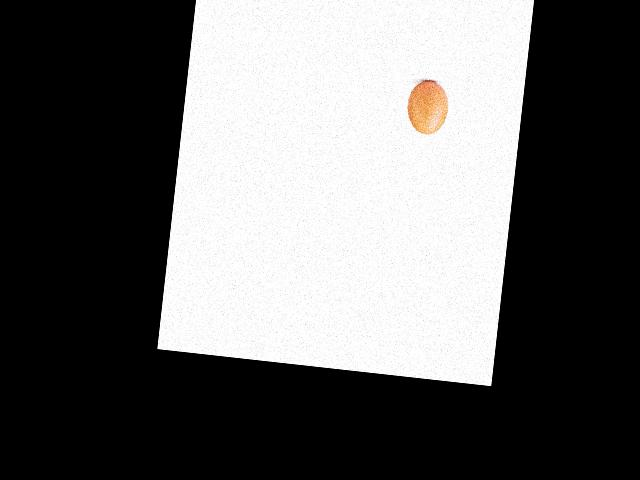egg: (404, 79, 450, 135)
